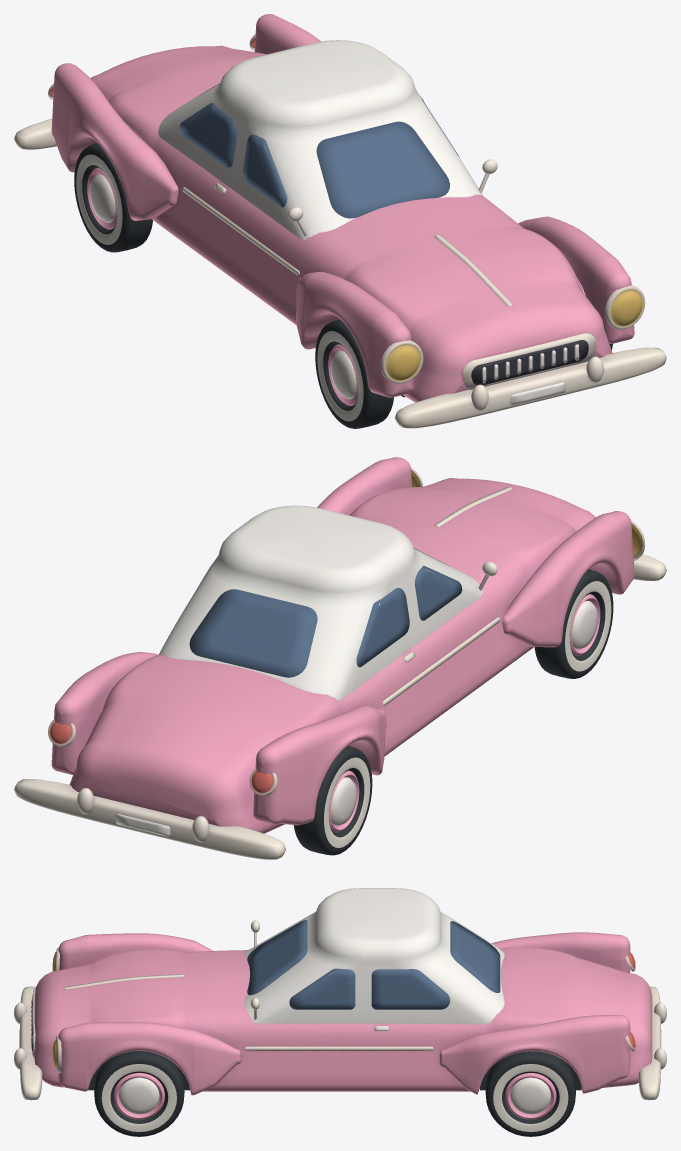
File: classic-car.glb
The picture shows the model from 3 angles, top to bottom: view 1: azimuth 30°, elevation 25°; view 2: azimuth 150°, elevation 25°; view 3: azimuth 270°, elevation 25°; orthographic projection. The views are drawn at different scales.
Visible parts, largest first — view 1: classic-car_body, classic-car_windows, classic-car_wheel_fr, classic-car_wheel_rr; view 2: classic-car_body, classic-car_windows, classic-car_wheel_rr, classic-car_wheel_fr; view 3: classic-car_body, classic-car_windows, classic-car_wheel_fl, classic-car_wheel_rl.
Boxes of the visible parts, bbox=[...] form: classic-car_body: bbox=[14, 14, 666, 428]; classic-car_windows: bbox=[179, 83, 459, 218]; classic-car_wheel_fr: bbox=[315, 319, 393, 428]; classic-car_wheel_rr: bbox=[74, 143, 152, 252]; classic-car_body: bbox=[14, 457, 666, 859]; classic-car_windows: bbox=[189, 548, 462, 677]; classic-car_wheel_rr: bbox=[293, 746, 372, 855]; classic-car_wheel_fr: bbox=[534, 569, 613, 678]; classic-car_body: bbox=[14, 888, 666, 1100]; classic-car_windows: bbox=[247, 920, 500, 1009]; classic-car_wheel_fl: bbox=[94, 1051, 184, 1136]; classic-car_wheel_rl: bbox=[485, 1051, 575, 1136].
Size of the model in its own units: 1.86 by 1.44 by 4.84.
2 materials, 2 textured.
